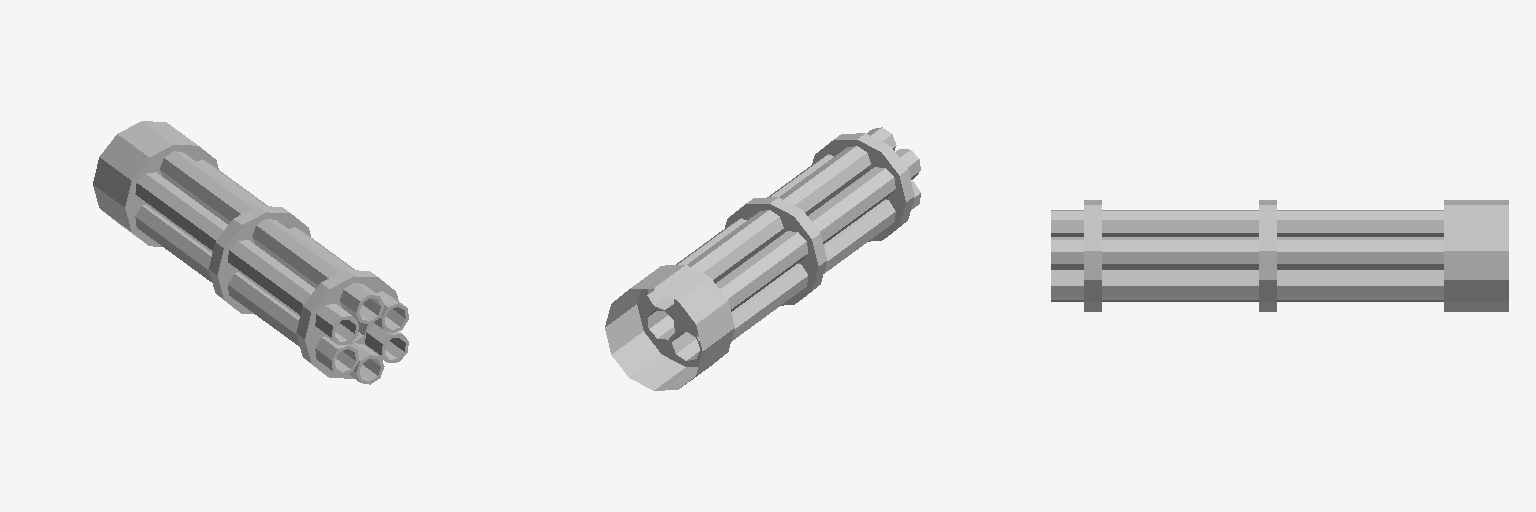
File: Minigun.obj
3 views of the same model, side by side, from view 1: azimuth 30°, elevation 25°; view 2: azimuth 150°, elevation 25°; view 3: azimuth 270°, elevation 25° (orthographic).
Visible parts, largest first — view 1: Minigun:pCylinder14; view 2: Minigun:pCylinder14; view 3: Minigun:pCylinder14.
Boxes of the visible parts, x1=… form: Minigun:pCylinder14: x1=93, y1=121, x2=408, y2=384; Minigun:pCylinder14: x1=605, y1=127, x2=920, y2=390; Minigun:pCylinder14: x1=1051, y1=200, x2=1508, y2=311.
Size of the model in its own units: 68.63 by 68.63 by 278.